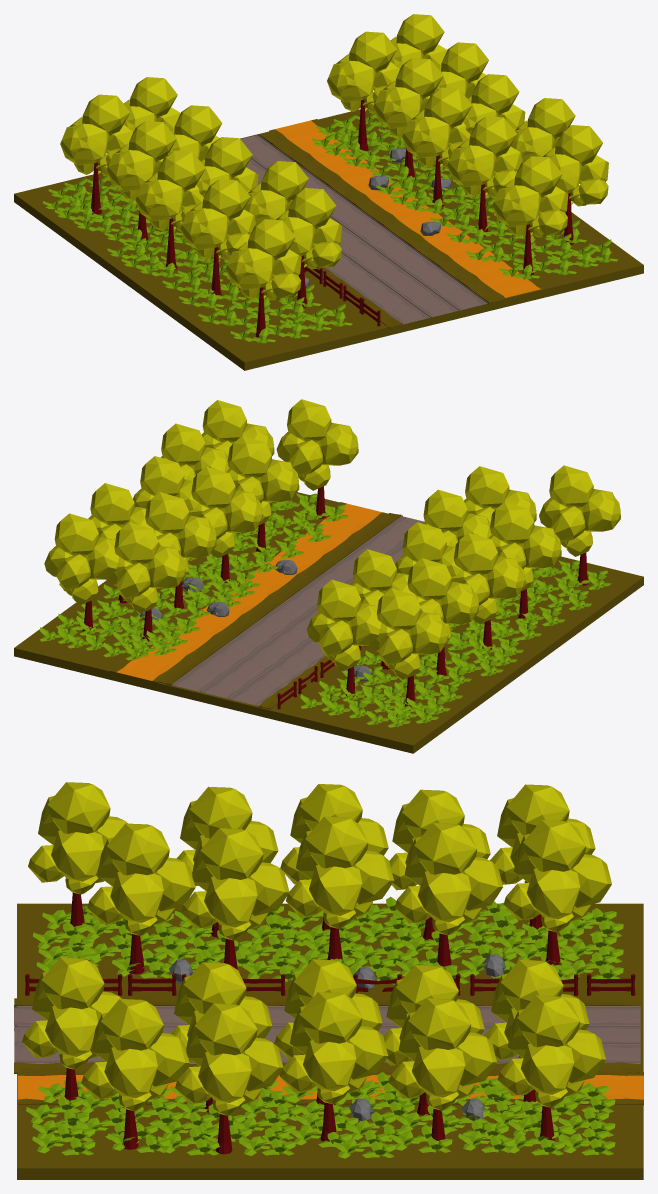
Rendered from Forest Area 10.fbx.
3 views of the same model, one above another, from view 1: azimuth 30°, elevation 25°; view 2: azimuth 150°, elevation 25°; view 3: azimuth 270°, elevation 25° (orthographic). The views are drawn at different scales.
Parts seen in each view (by area): view 1: Plane.010, SM_Env_Path_Straight_01.3633, SM_Env_Grass_01.086, Tree3.034, Tree3.024, Tree3.032, Tree3.022, Tree3.038, Tree3.028, Tree3.026, Tree3.036, Tree3.033 (+12 smaller); view 2: Plane.010, SM_Env_Path_Straight_01.3633, SM_Env_Grass_01.086, Tree3.034, Tree3.024, Tree3.028, Tree3.038, Tree3.029, Tree3.019, Tree3.036, Tree3.026, Tree3.032 (+12 smaller); view 3: Plane.010, SM_Env_Path_Straight_01.3633, Tree3.025, Tree3.023, Tree3.033, Tree3.021, Tree3.029, Tree3.031, Tree3.019, Tree3.037, Tree3.027, Tree3.035 (+12 smaller).
Boxes of the visible parts, box(x1,y1,x2,y2) form: Plane.010: box(14, 108, 643, 370); SM_Env_Path_Straight_01.3633: box(240, 131, 501, 328); SM_Env_Grass_01.086: box(269, 119, 547, 299); Tree3.034: box(225, 219, 301, 337); Tree3.024: box(492, 156, 568, 275); Tree3.032: box(180, 179, 255, 299); Tree3.022: box(447, 116, 522, 236); Tree3.038: box(60, 94, 133, 214); Tree3.028: box(327, 31, 400, 150); Tree3.026: box(402, 87, 472, 207); Tree3.036: box(135, 150, 205, 270); Tree3.033: box(275, 188, 342, 307); Plane.010: box(14, 492, 643, 753); SM_Env_Path_Straight_01.3633: box(159, 513, 424, 709); SM_Env_Grass_01.086: box(110, 502, 388, 683); Tree3.034: box(539, 465, 620, 585); Tree3.024: box(276, 399, 358, 518); Tree3.028: box(106, 522, 185, 641); Tree3.038: box(369, 588, 448, 707); Tree3.029: box(306, 579, 381, 697); Tree3.019: box(44, 513, 119, 631); Tree3.036: box(451, 532, 525, 649); Tree3.026: box(189, 466, 262, 586); Tree3.032: box(488, 502, 561, 621); Plane.010: box(17, 903, 643, 1179); SM_Env_Path_Straight_01.3633: box(14, 998, 640, 1073); Tree3.025: box(175, 1003, 283, 1154); Tree3.023: box(81, 999, 189, 1149); Tree3.033: box(87, 823, 195, 974); Tree3.021: box(280, 992, 388, 1141); Tree3.029: box(503, 820, 611, 965); Tree3.031: box(286, 816, 394, 959); Tree3.019: box(497, 995, 605, 1144); Tree3.037: box(394, 823, 502, 966); Tree3.027: box(388, 998, 497, 1140); Tree3.035: box(181, 828, 289, 969).
Bounding box in the file's own units: 10362 × 2889 × 10056.
